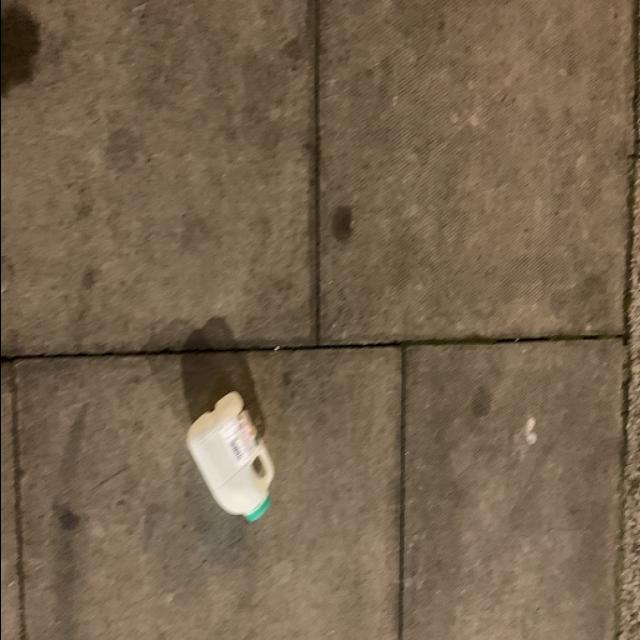HDPEM: (182, 387, 276, 525)
